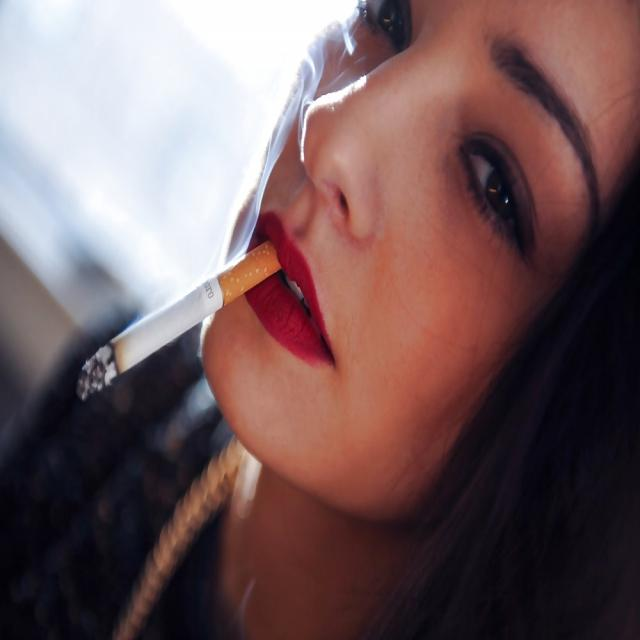cigarette: (74, 233, 284, 417)
